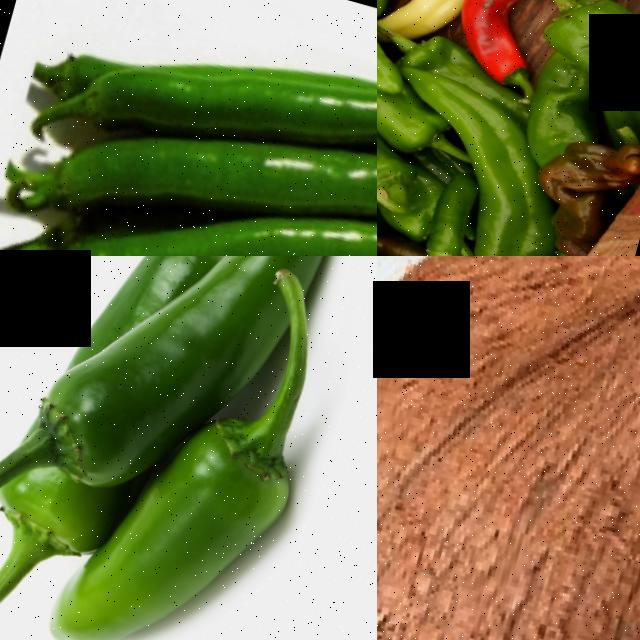chilli: (49, 396, 326, 640), (88, 10, 377, 187), (119, 256, 360, 435), (277, 110, 377, 252), (444, 0, 580, 94), (250, 171, 377, 256)
coconut: (377, 256, 640, 640)
